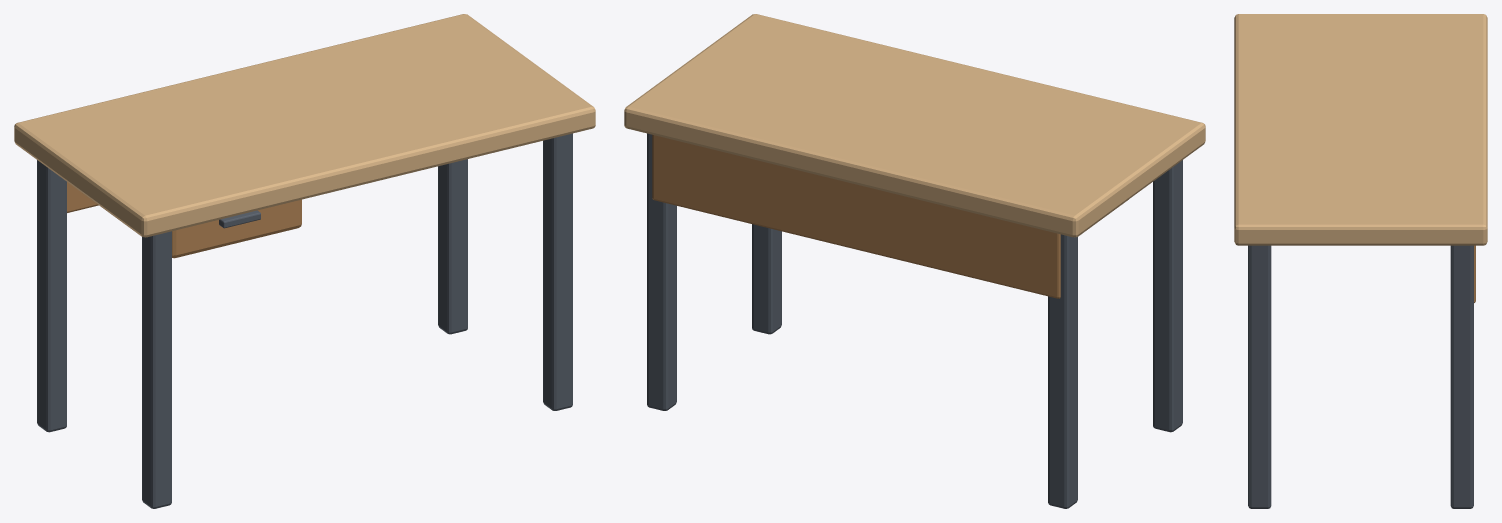
The model's file is desk.glb.
3 renders of one model, left to right at view 1: azimuth 30°, elevation 25°; view 2: azimuth 150°, elevation 25°; view 3: azimuth 270°, elevation 25°, orthographic. The views are drawn at different scales.
Parts seen in each view (by area): view 1: Desk_Top, Desk_Leg, Desk_Leg.002, Desk_Leg.001, Desk_Leg.003, Desk_Drawer; view 2: Desk_Top, Desk_Back_Panel, Desk_Leg, Desk_Leg.001, Desk_Leg.003, Desk_Leg.002; view 3: Desk_Top, Desk_Leg.002, Desk_Leg.003.
Part boxes in pixels (box(x1,y1,x2,y2)): Desk_Top: box(14, 14, 595, 237); Desk_Leg: box(142, 231, 171, 508); Desk_Leg.002: box(543, 133, 572, 410); Desk_Leg.001: box(37, 160, 66, 432); Desk_Leg.003: box(438, 159, 467, 334); Desk_Drawer: box(82, 193, 301, 258); Desk_Top: box(624, 14, 1205, 237); Desk_Back_Panel: box(652, 135, 1060, 298); Desk_Leg: box(1153, 160, 1182, 432); Desk_Leg.001: box(1048, 234, 1077, 508); Desk_Leg.003: box(647, 133, 676, 410); Desk_Leg.002: box(752, 224, 781, 334); Desk_Top: box(1234, 14, 1487, 245); Desk_Leg.002: box(1248, 245, 1271, 508); Desk_Leg.003: box(1450, 245, 1473, 508).
Bounding box in the file's own units: 1.2 × 0.7625 × 0.6.
